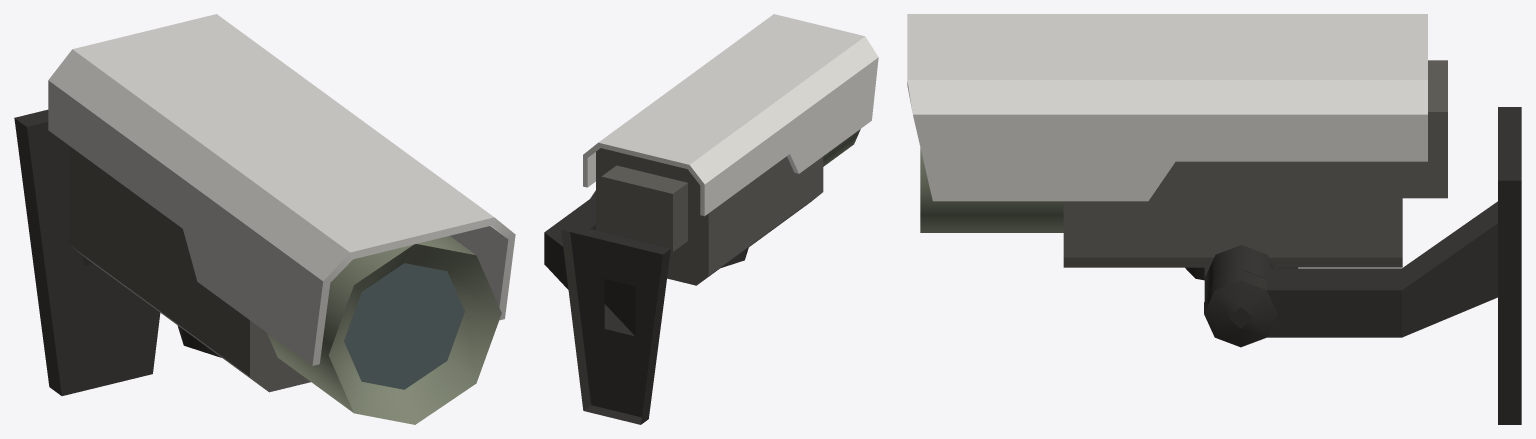
Rendered from Cctv_WallMounted.FBX.
3 views of the same model, side by side, from view 1: azimuth 30°, elevation 25°; view 2: azimuth 150°, elevation 25°; view 3: azimuth 270°, elevation 25° (orthographic). The views are drawn at different scales.
Visible parts, largest first — view 1: Camera, Cctv_WallMounted; view 2: Camera, Cctv_WallMounted; view 3: Camera, Cctv_WallMounted, Servo.
Part boxes in pixels (x1=…): Camera: x1=48, y1=14, x2=515, y2=424; Cctv_WallMounted: x1=14, y1=109, x2=160, y2=395; Camera: x1=583, y1=14, x2=878, y2=285; Cctv_WallMounted: x1=544, y1=190, x2=670, y2=424; Camera: x1=907, y1=14, x2=1447, y2=267; Cctv_WallMounted: x1=1204, y1=107, x2=1521, y2=424; Servo: x1=1185, y1=245, x2=1297, y2=300.
Size of the model in its own units: 11.47 by 23.6 by 15.14.
